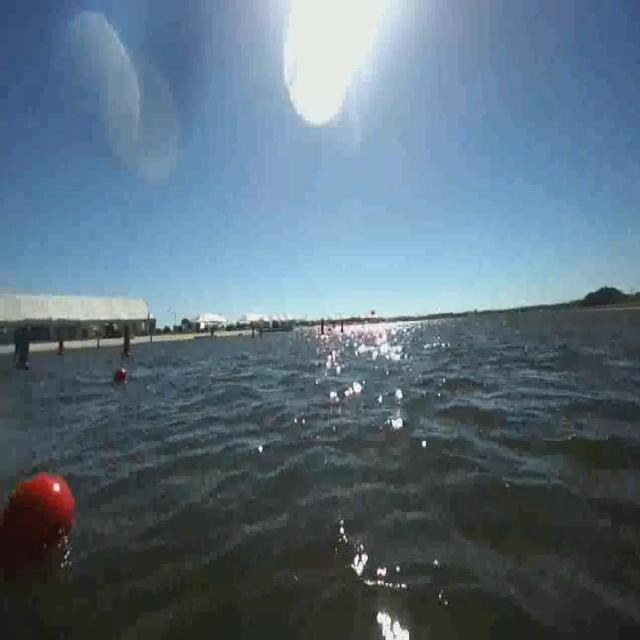red-buoy: (2, 476, 76, 550), (113, 368, 126, 382)
